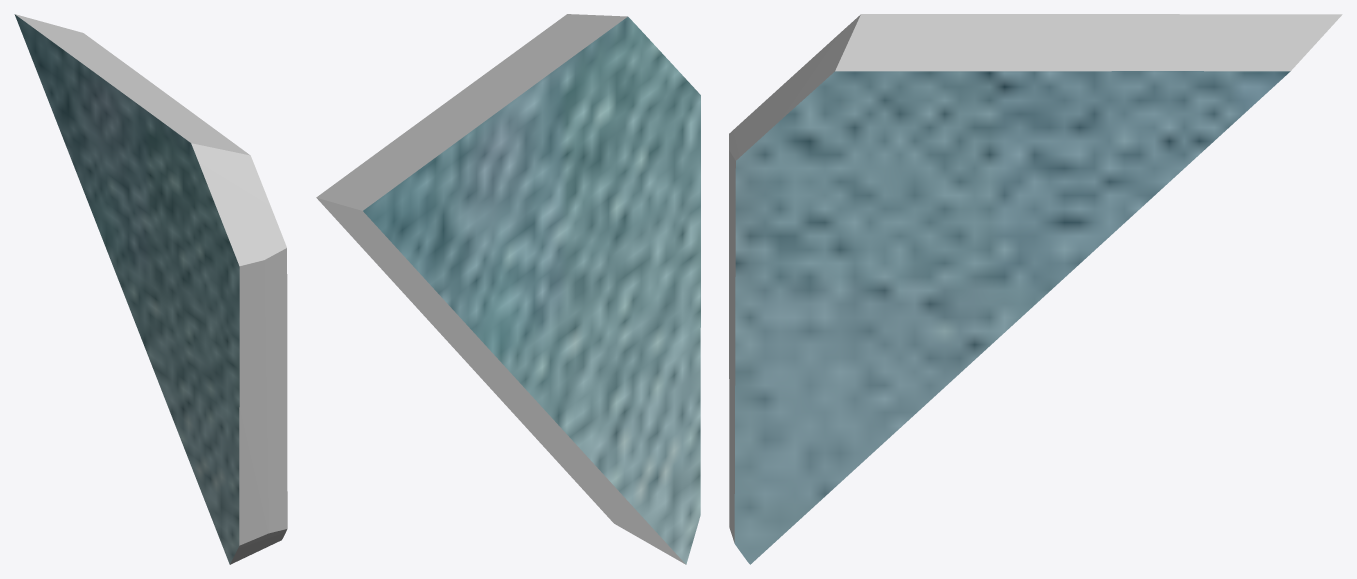
3 renders of one model, left to right at view 1: azimuth 30°, elevation 25°; view 2: azimuth 150°, elevation 25°; view 3: azimuth 270°, elevation 25°, orthographic. The views are drawn at different scales.
Visible parts, largest first — view 1: Cube_cell.008_Mesh.008; view 2: Cube_cell.008_Mesh.008; view 3: Cube_cell.008_Mesh.008.
Boxes of the visible parts, left/top/right/bottom form: Cube_cell.008_Mesh.008: left=14, top=14, right=287, bottom=564; Cube_cell.008_Mesh.008: left=316, top=14, right=700, bottom=564; Cube_cell.008_Mesh.008: left=729, top=14, right=1342, bottom=564.
Bounding box in the file's own units: 0.0832 × 0.6243 × 0.6472.
